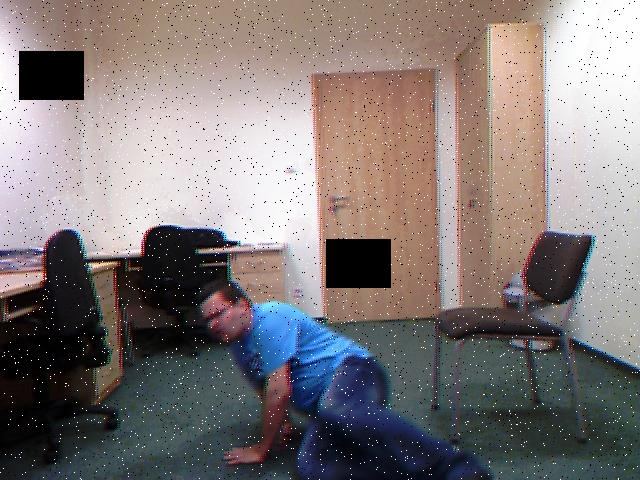fall: (189, 269, 491, 480)
